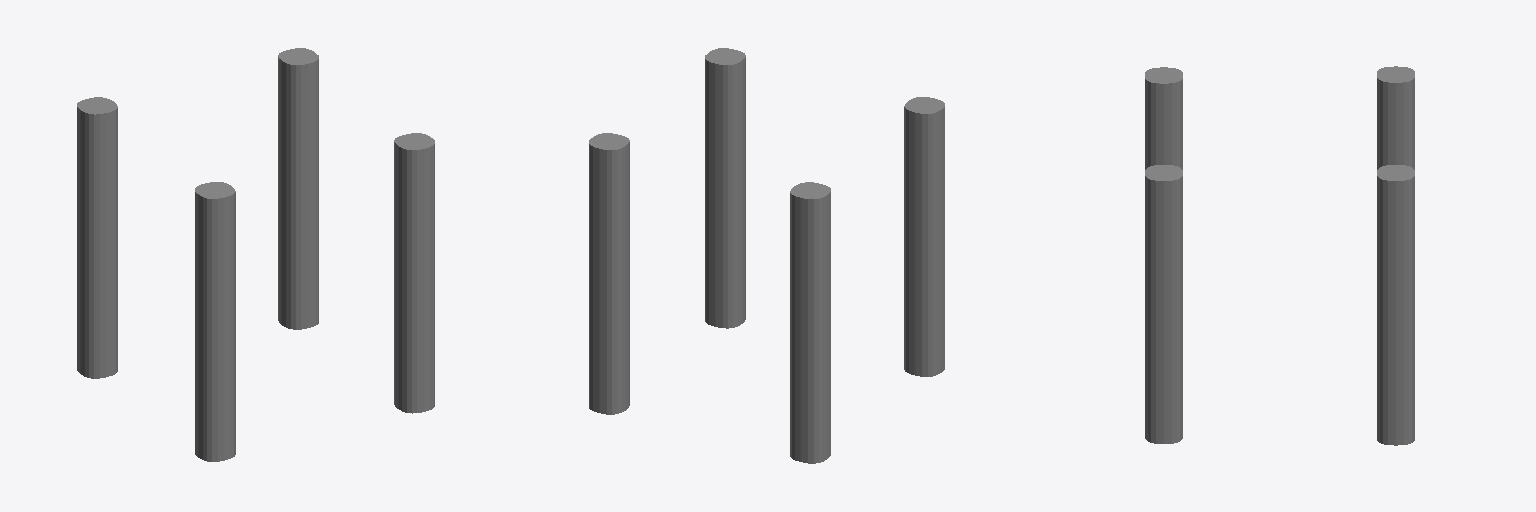
File: kitchenTableLegs.obj
The picture shows the model from 3 angles: view 1: azimuth 30°, elevation 25°; view 2: azimuth 150°, elevation 25°; view 3: azimuth 270°, elevation 25°; orthographic projection.
Visible parts, largest first — view 1: Box001, Box005, Box006, Box007; view 2: Box001, Box005, Box006, Box007; view 3: Box001, Box006, Box005, Box007.
Boxes of the visible parts, x1=… form: Box001: x1=278, y1=48, x2=318, y2=329; Box005: x1=77, y1=97, x2=117, y2=378; Box006: x1=394, y1=133, x2=434, y2=413; Box007: x1=195, y1=182, x2=235, y2=461; Box001: x1=589, y1=133, x2=629, y2=414; Box005: x1=790, y1=182, x2=830, y2=463; Box006: x1=705, y1=48, x2=745, y2=328; Box007: x1=904, y1=97, x2=944, y2=376; Box001: x1=1377, y1=165, x2=1414, y2=445; Box006: x1=1145, y1=165, x2=1182, y2=443; Box005: x1=1377, y1=66, x2=1414, y2=169; Box007: x1=1145, y1=67, x2=1182, y2=169.
Size of the model in its own units: 14.04 by 15.11 by 14.02.